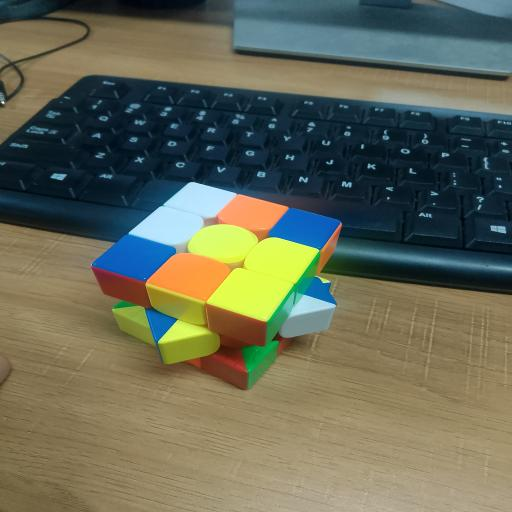cubic: (75, 174, 358, 406)
